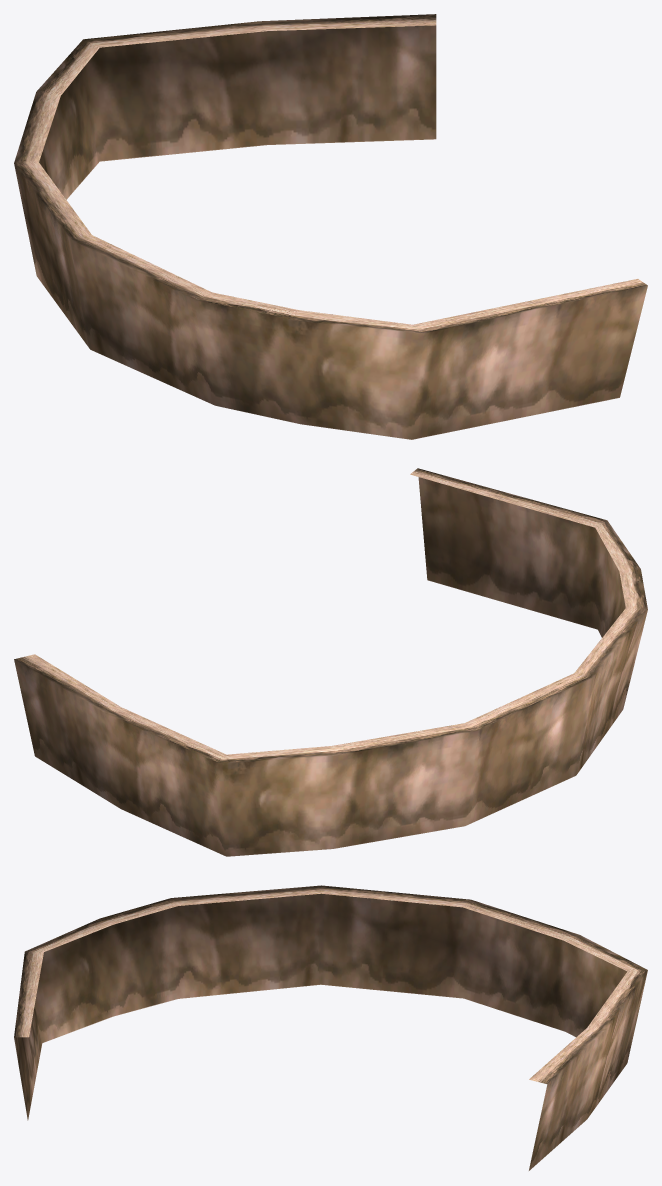
The model's file is OVERHILL_A_01_LINE99.fbx.
3 views of the same model, one above another, from view 1: azimuth 30°, elevation 25°; view 2: azimuth 150°, elevation 25°; view 3: azimuth 270°, elevation 25° (orthographic). The views are drawn at different scales.
Parts seen in each view (by area): view 1: OVERHILL_A_01_LINE99; view 2: OVERHILL_A_01_LINE99; view 3: OVERHILL_A_01_LINE99.
Part boxes in pixels (left/top/right/bottom): OVERHILL_A_01_LINE99: left=14, top=14, right=647, bottom=439; OVERHILL_A_01_LINE99: left=14, top=468, right=647, bottom=856; OVERHILL_A_01_LINE99: left=14, top=885, right=647, bottom=1170.
Size of the model in its own units: 22943 by 4940 by 30915.
Materials: 1 (1 with a texture image).
